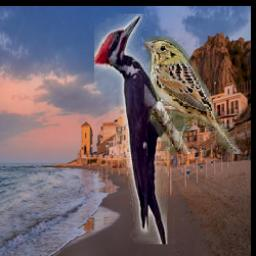Sparrow: (144, 36, 243, 154)
Woodpecker: (93, 15, 174, 245)
